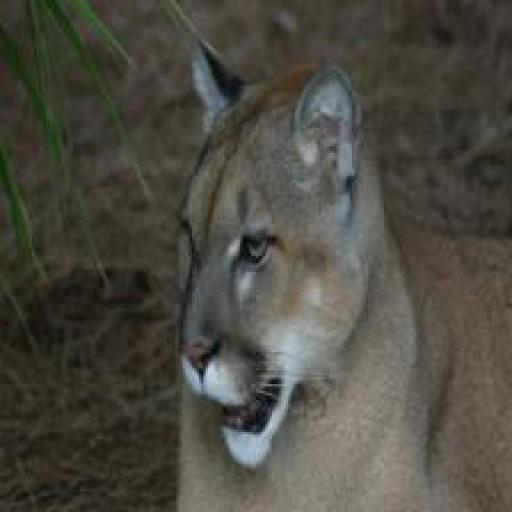lion: (121, 32, 512, 509)
